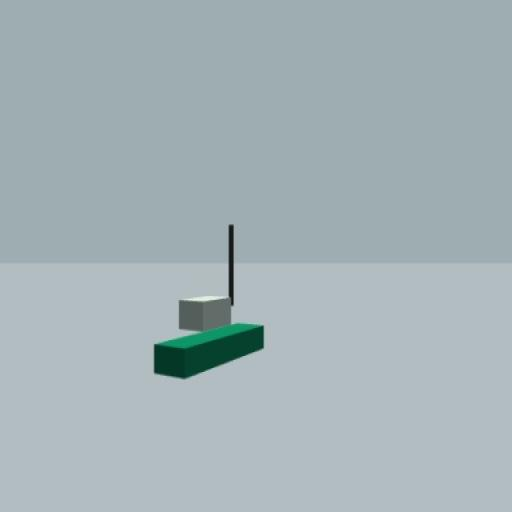fishing_boat: (153, 224, 265, 381)
